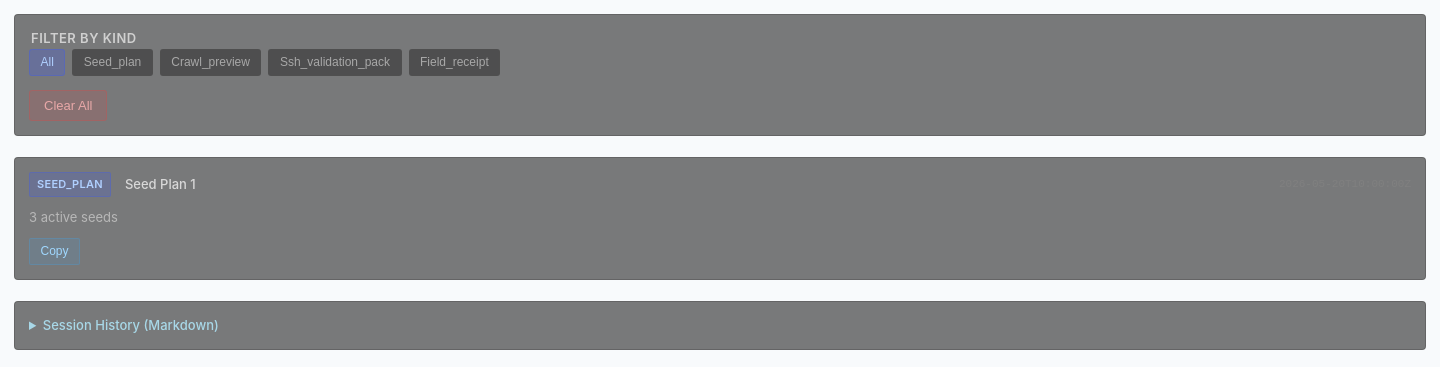
Test case: FieldReceiptsPanel › shows copied indicator after clipboard write
Step 1. Click the button with test id "frp-copy-btn-0" → x=54, y=251, box [29,238,80,265]
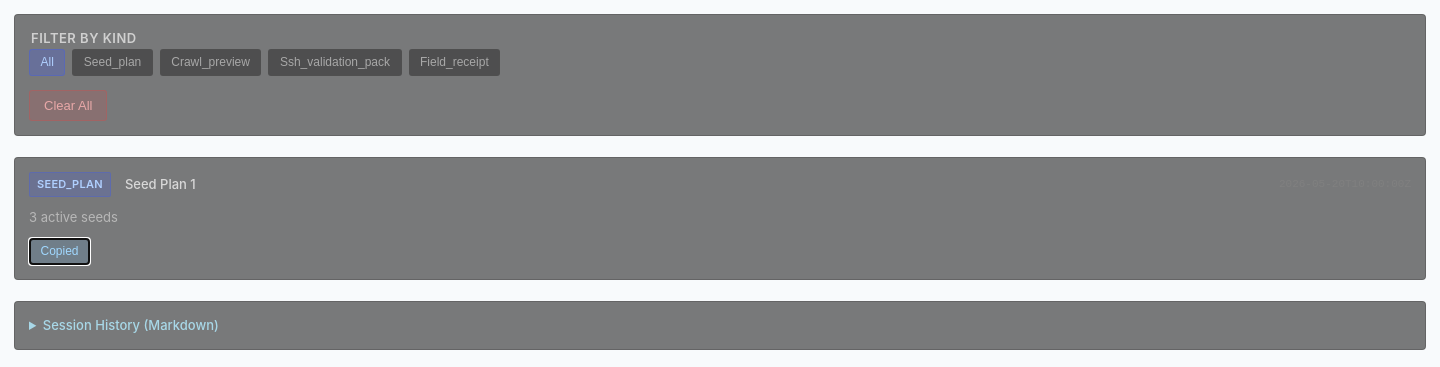
Expected: the button with test id "frp-copy-btn-0" reads "Copied", [29,238,90,265]
